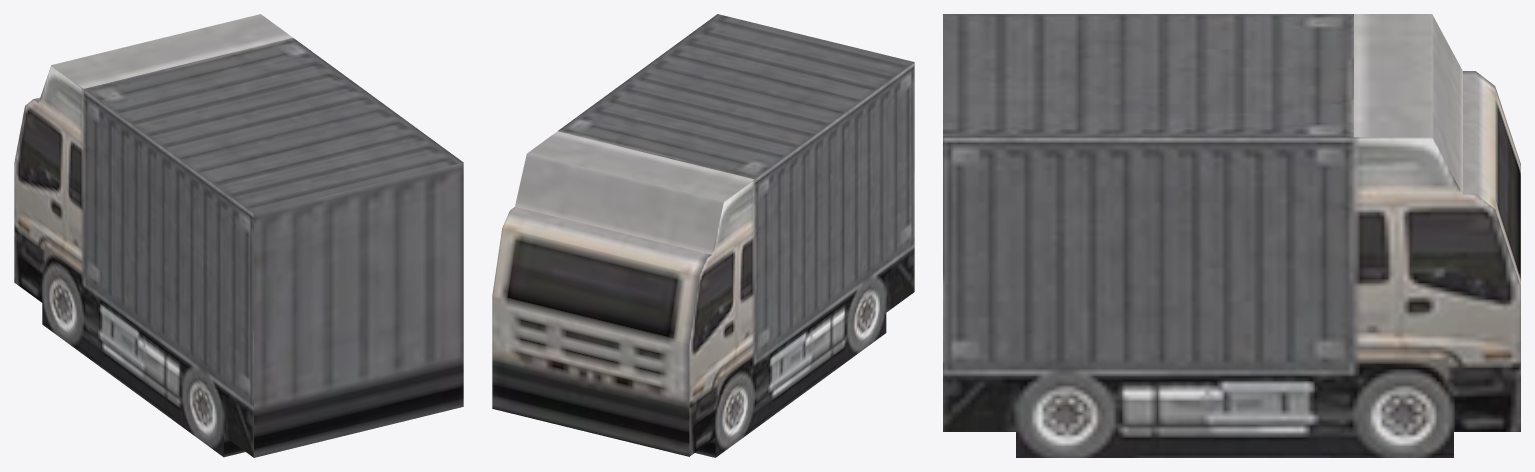
The model's file is truck-grey.glb.
3 renders of one model, left to right at view 1: azimuth 30°, elevation 25°; view 2: azimuth 150°, elevation 25°; view 3: azimuth 270°, elevation 25°, orthographic. The views are drawn at different scales.
Parts seen in each view (by area): view 1: truck-grey; view 2: truck-grey; view 3: truck-grey.
Part boxes in pixels (x1,y1,x2,y2): truck-grey: (14, 14, 463, 457); truck-grey: (492, 14, 914, 457); truck-grey: (943, 14, 1520, 457).
Bounding box in the file's own units: 0.8301 × 1.01 × 1.64.
1 material, 1 textured.
